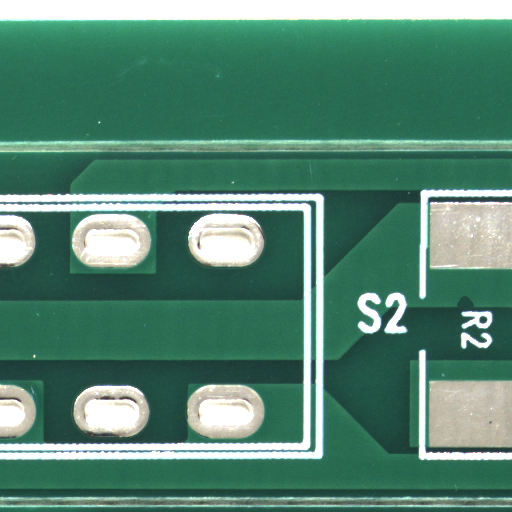Mouse_bite: (466, 302, 483, 315)
